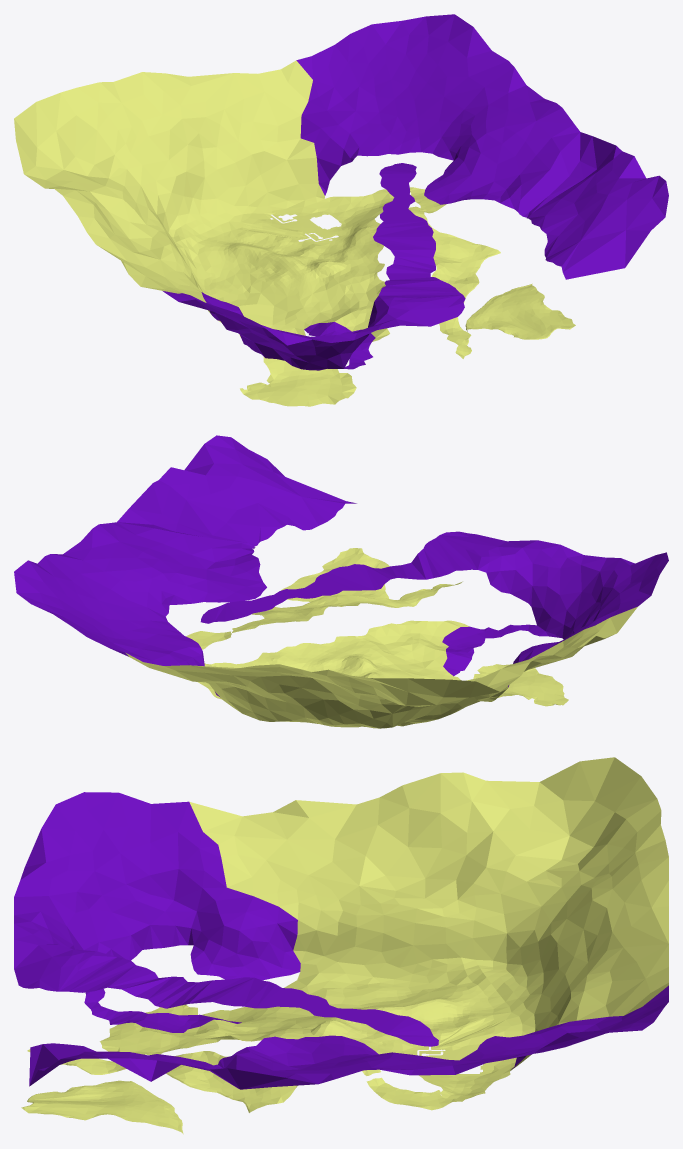
File: level_collision_dirt.fbx
3 renders of one model, top to bottom at view 1: azimuth 30°, elevation 25°; view 2: azimuth 150°, elevation 25°; view 3: azimuth 270°, elevation 25°, orthographic. The views are drawn at different scales.
Visible parts, largest first — view 1: level_collision_dirt; view 2: level_collision_dirt; view 3: level_collision_dirt.
Boxes of the visible parts, x1,y1,x2,y2 form: level_collision_dirt: (14,14,668,406); level_collision_dirt: (14,435,668,728); level_collision_dirt: (14,757,668,1134).
Size of the model in its own units: 2440000 by 830961 by 2320019.
